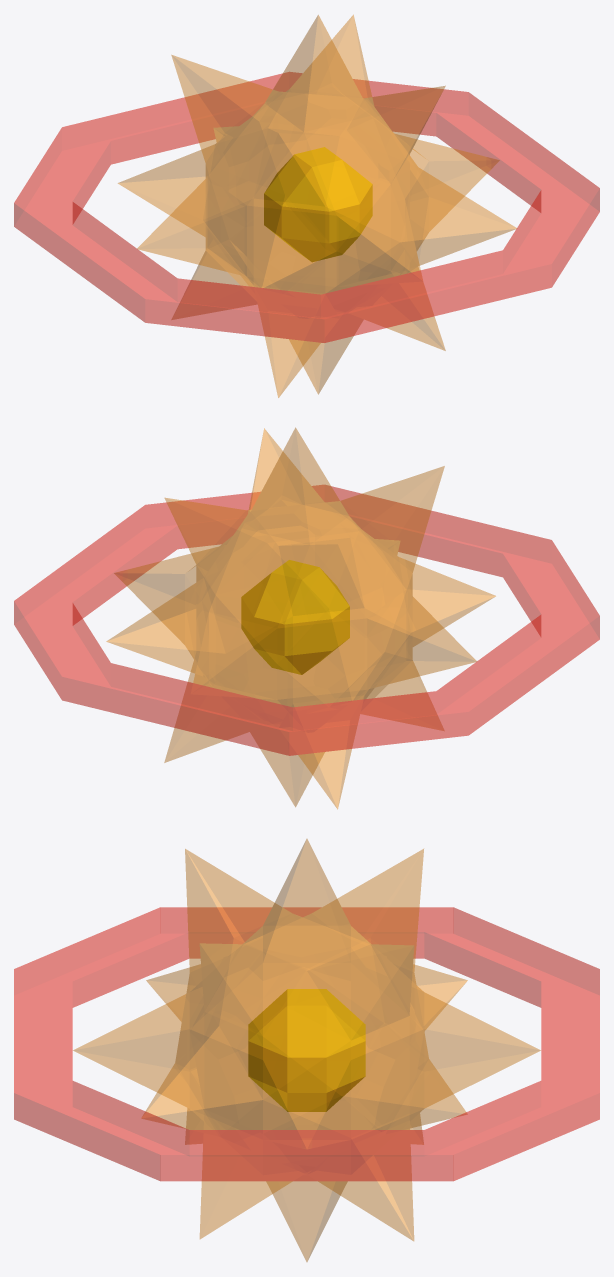
Rendered from model_3088_spotanim.obj.
The picture shows the model from 3 angles, top to bottom: view 1: azimuth 30°, elevation 25°; view 2: azimuth 150°, elevation 25°; view 3: azimuth 270°, elevation 25°; orthographic projection. The views are drawn at different scales.
Parts seen in each view (by area): view 1: 3088; view 2: 3088; view 3: 3088.
Boxes of the visible parts, bbox=[...] form: 3088: bbox=[14, 15, 599, 397]; 3088: bbox=[14, 427, 599, 809]; 3088: bbox=[14, 839, 599, 1261].
Bounding box in the file's own units: 120 × 96 × 120.
